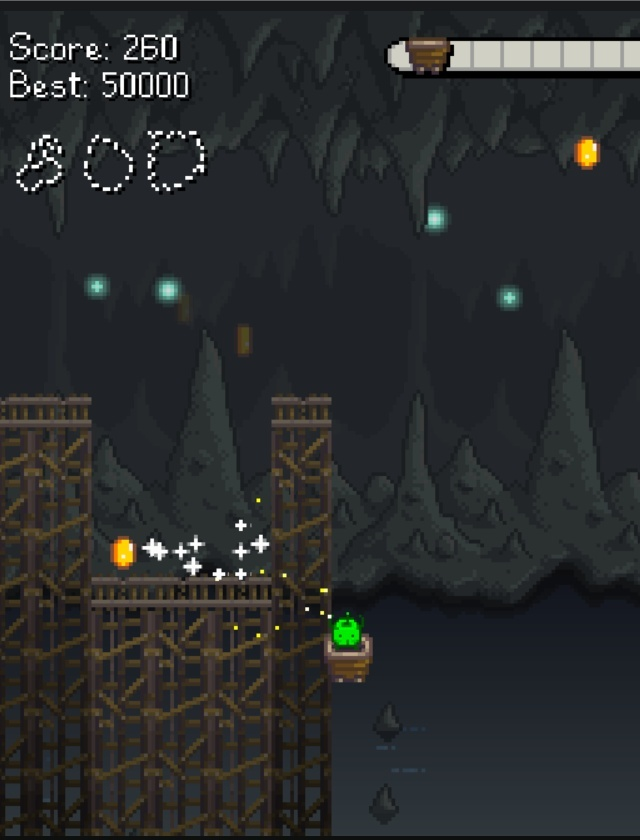coins: (111, 537, 136, 569), (574, 137, 599, 169)
minecart: (324, 634, 372, 681)
tracks: (78, 566, 285, 614), (261, 385, 345, 437), (0, 389, 99, 433)
